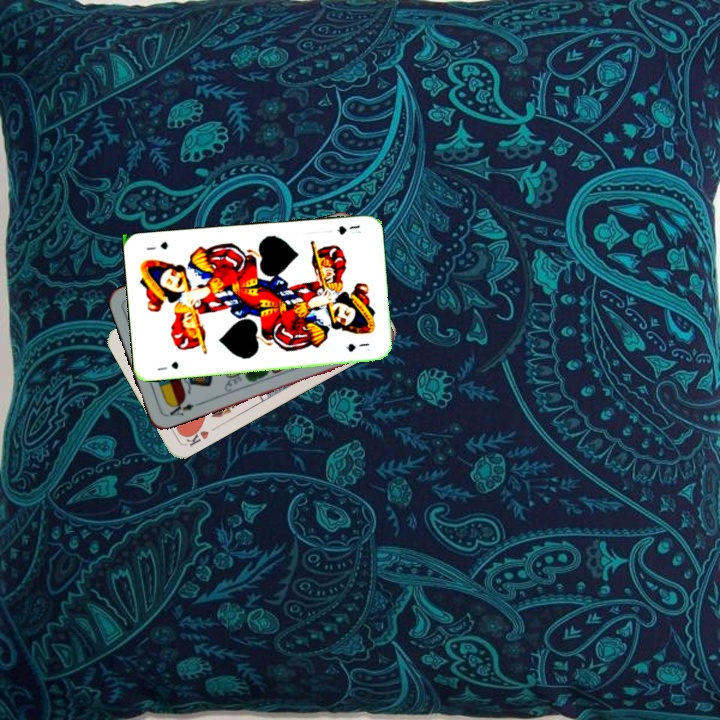EA: (166, 396, 202, 419)
GU: (332, 221, 362, 238), (153, 358, 181, 373)
HK: (180, 422, 211, 449)
